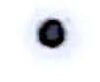cancer: (21, 4, 84, 65)
